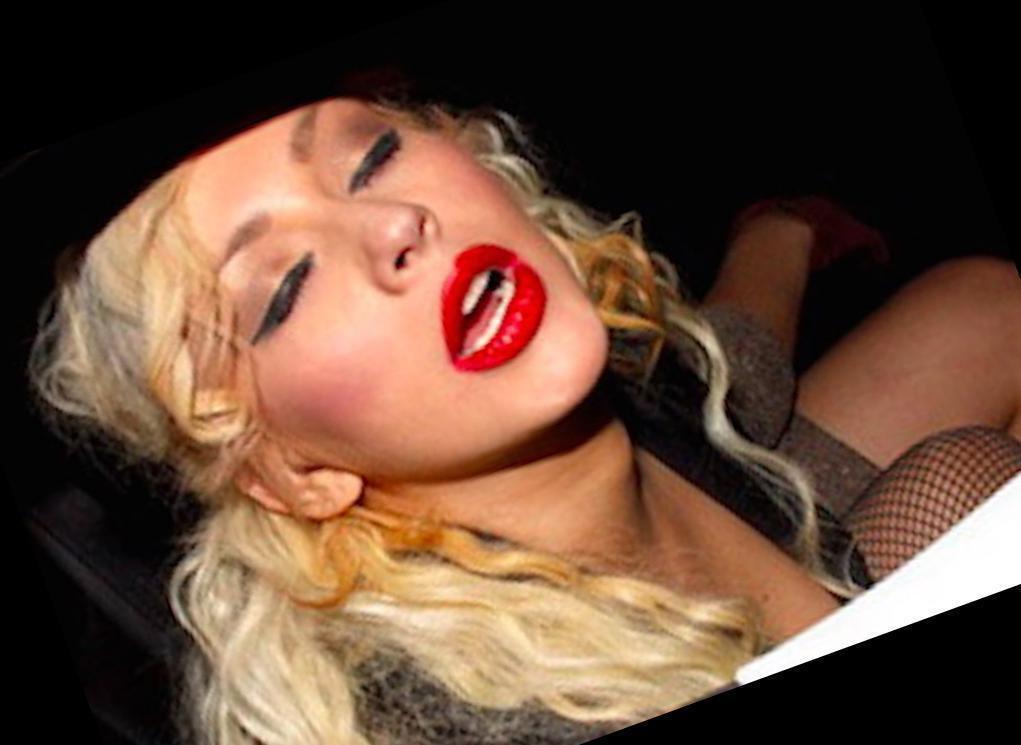Drunk: (221, 119, 570, 439)
